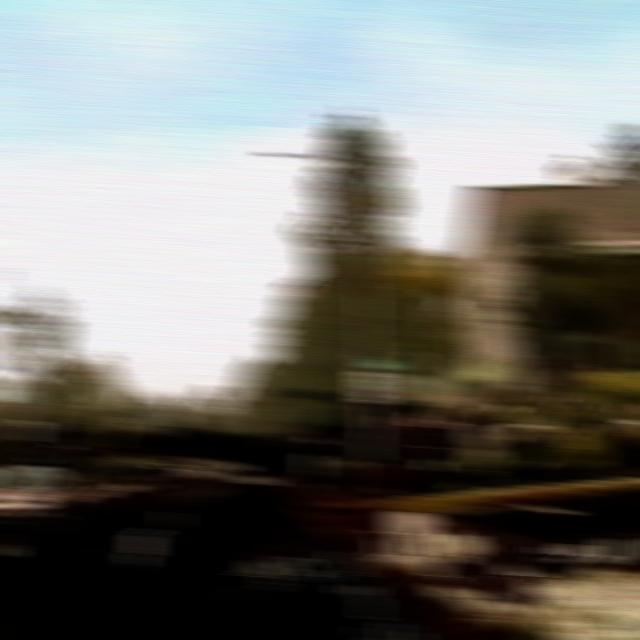speedLimit25: (352, 370, 387, 402)
